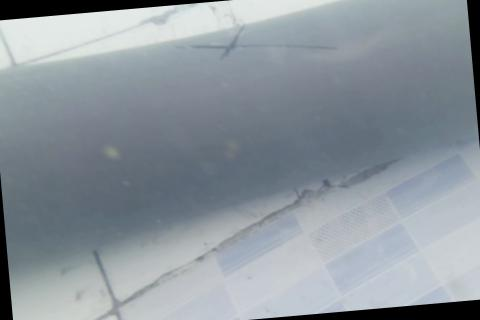keretakan: (176, 18, 340, 66)
